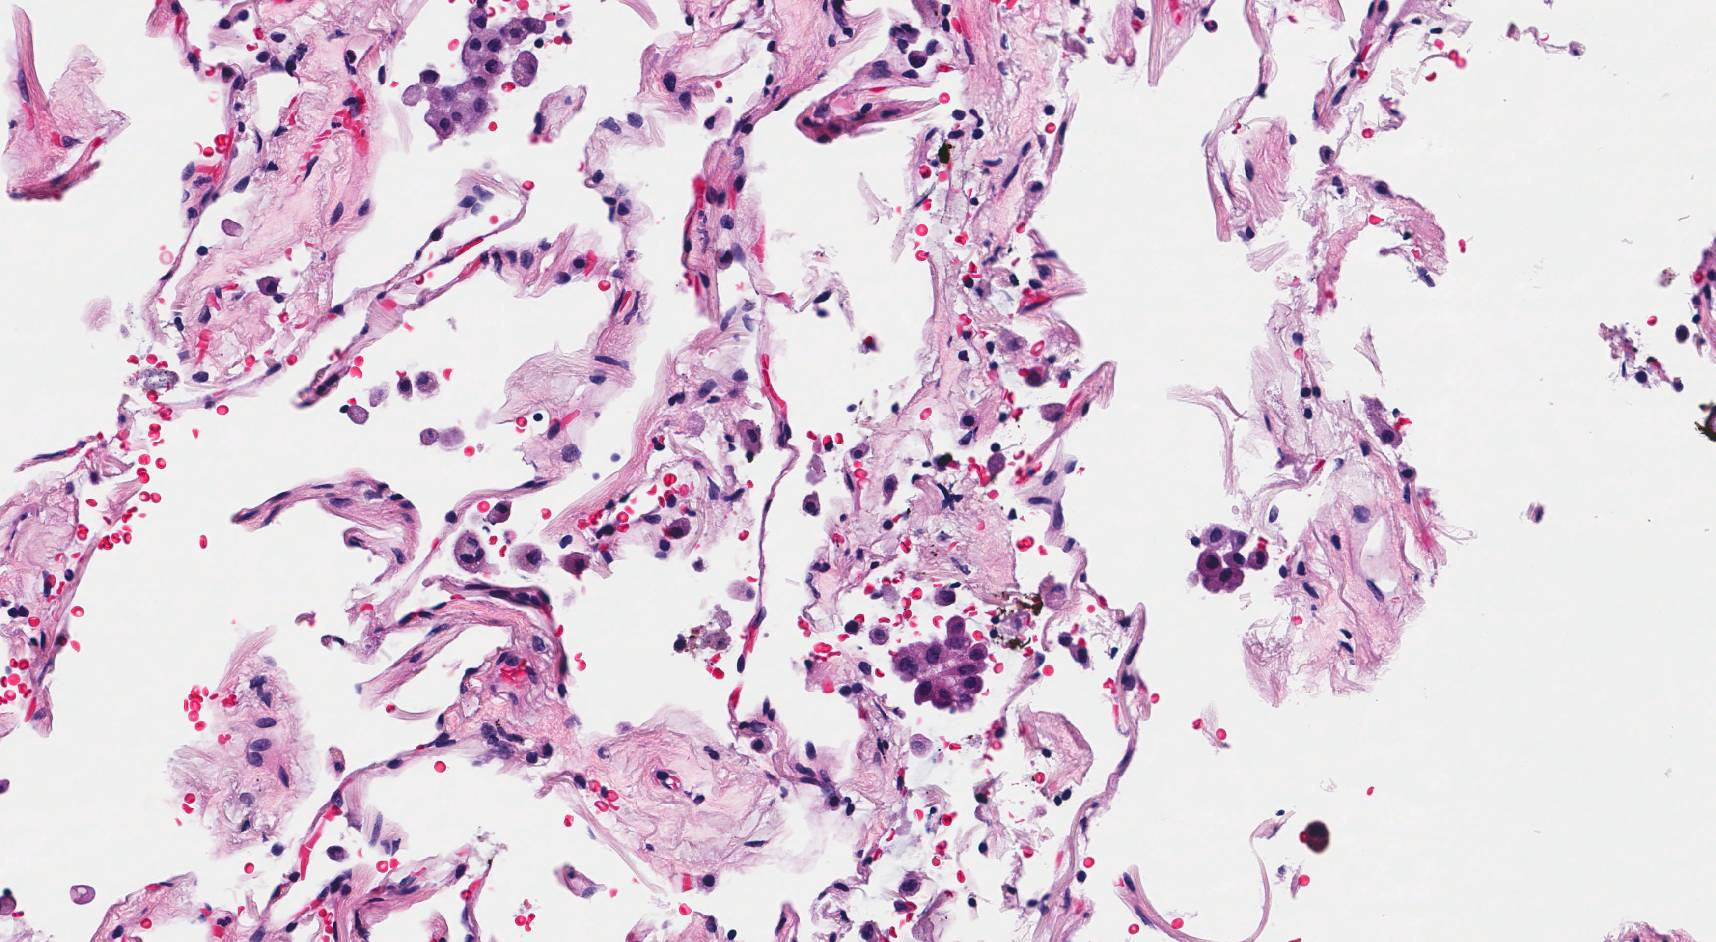stas: (893, 616, 988, 712)
